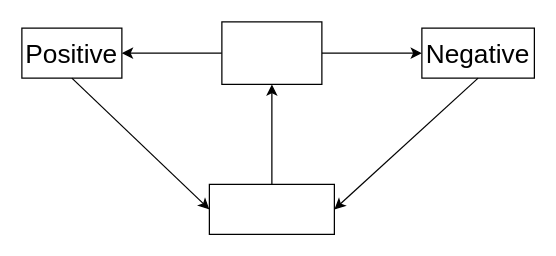
Some shapes in this 556 by 256 pixel diagram are drawn without their labels. Here are the shapes that lost their labels. From the top down, the centre of each, then its label:
At pixel 271 52: "Awaiting Results".
At pixel 271 208: "Untested".
